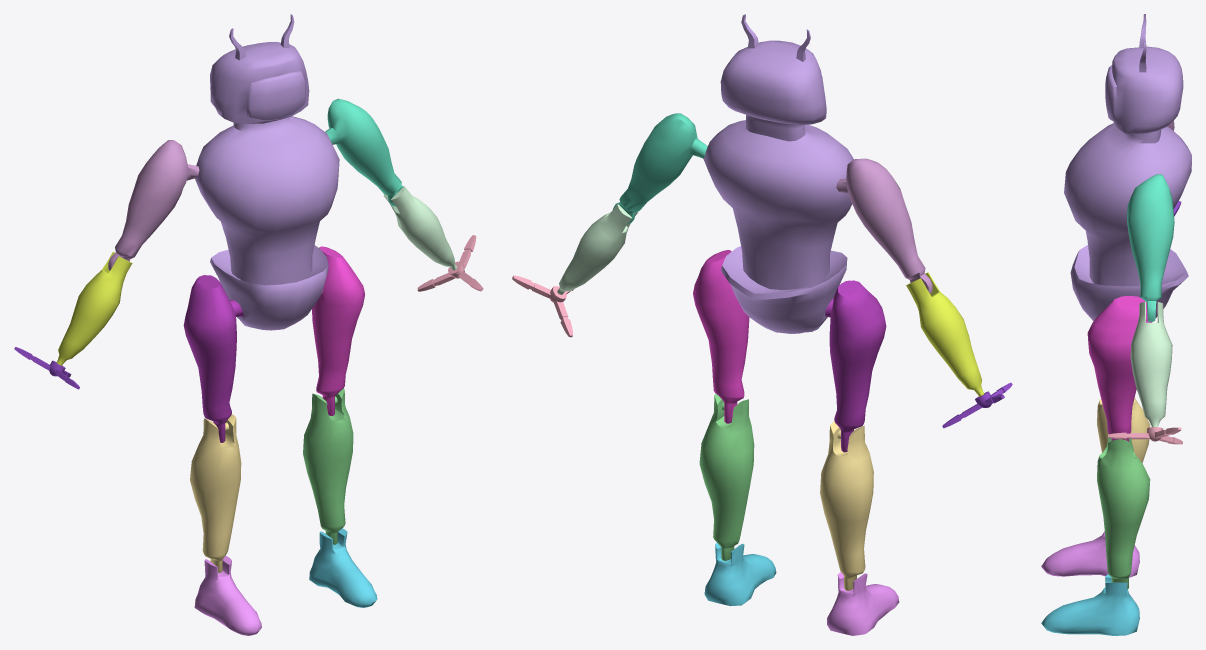
3 renders of one model, left to right at view 1: azimuth 30°, elevation 25°; view 2: azimuth 150°, elevation 25°; view 3: azimuth 270°, elevation 25°, orthographic. The views are drawn at different scales.
Visible parts, largest first — view 1: split_parent_10, Object_7.047, Object_7.039, Object_7.046, Object_7.038, Object_7.029, Object_7.028, Object_7.121, Object_7.032, Object_7.033, split_parent_11, split_parent_0; view 2: split_parent_10, Object_7.047, Object_7.039, Object_7.038, Object_7.046, Object_7.029, Object_7.028, Object_7.121, split_parent_11, Object_7.032, Object_7.033, split_parent_0; view 3: split_parent_10, Object_7.038, Object_7.046, Object_7.028, Object_7.033, split_parent_11, Object_7.032, Object_7.039, split_parent_0.
Boxes of the visible parts, x1,y1,x2,y2 form: split_parent_10: (195, 14, 339, 330); Object_7.047: (183, 275, 243, 442); Object_7.039: (190, 414, 241, 572); Object_7.046: (312, 246, 364, 415); Object_7.038: (303, 388, 353, 544); Object_7.029: (108, 140, 199, 270); Object_7.028: (325, 98, 403, 206); Object_7.121: (56, 252, 132, 365); Object_7.032: (194, 555, 261, 635); Object_7.033: (309, 528, 377, 607); split_parent_11: (383, 186, 456, 270); split_parent_0: (417, 235, 483, 291); split_parent_10: (703, 14, 853, 333); Object_7.047: (825, 280, 886, 452); Object_7.039: (820, 421, 873, 590); Object_7.038: (699, 393, 754, 560); Object_7.046: (693, 250, 749, 423); Object_7.029: (836, 158, 932, 293); Object_7.028: (612, 113, 707, 223); Object_7.121: (906, 272, 984, 396); split_parent_11: (557, 204, 638, 294); Object_7.032: (827, 572, 899, 635); Object_7.033: (704, 543, 776, 606); split_parent_0: (512, 275, 573, 337); split_parent_10: (1064, 14, 1191, 321); Object_7.038: (1097, 437, 1150, 589); Object_7.046: (1087, 296, 1151, 441); Object_7.028: (1127, 174, 1174, 321); Object_7.033: (1041, 574, 1139, 635); split_parent_11: (1130, 302, 1172, 427); Object_7.032: (1041, 531, 1139, 577); Object_7.039: (1097, 398, 1150, 462); split_parent_0: (1108, 427, 1182, 444).
Size of the model in its own units: 0.8552 by 1 by 0.2387.
